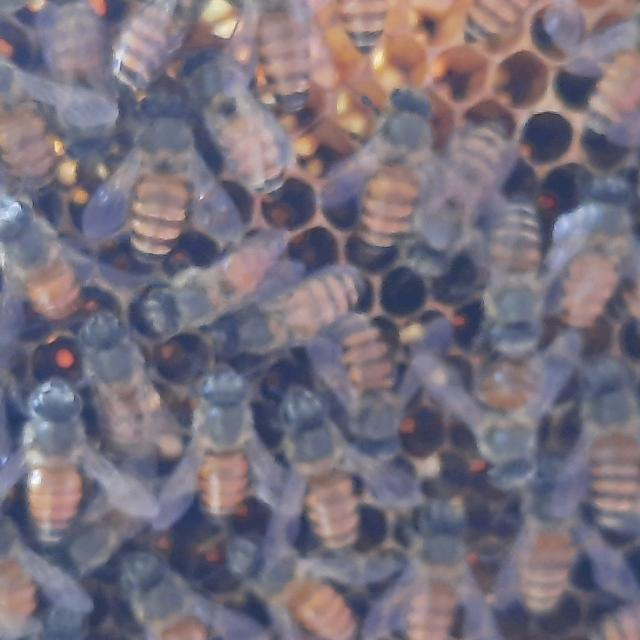honeybee: (72, 302, 166, 471), (135, 230, 296, 325), (212, 259, 365, 354), (286, 386, 368, 559), (553, 190, 640, 331), (424, 118, 512, 256), (111, 542, 232, 640), (185, 368, 261, 522), (358, 83, 424, 258), (22, 377, 87, 549), (193, 59, 273, 198), (36, 0, 114, 140), (0, 192, 79, 326), (243, 543, 350, 640), (120, 88, 185, 243), (514, 458, 574, 625), (0, 53, 67, 187), (593, 358, 640, 547), (406, 501, 468, 640), (491, 200, 543, 348), (577, 31, 640, 149), (111, 0, 191, 91), (0, 534, 67, 638), (251, 1, 312, 102), (335, 315, 400, 380), (452, 0, 521, 55), (341, 0, 389, 60)
